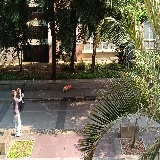fire: (64, 85, 71, 90)
